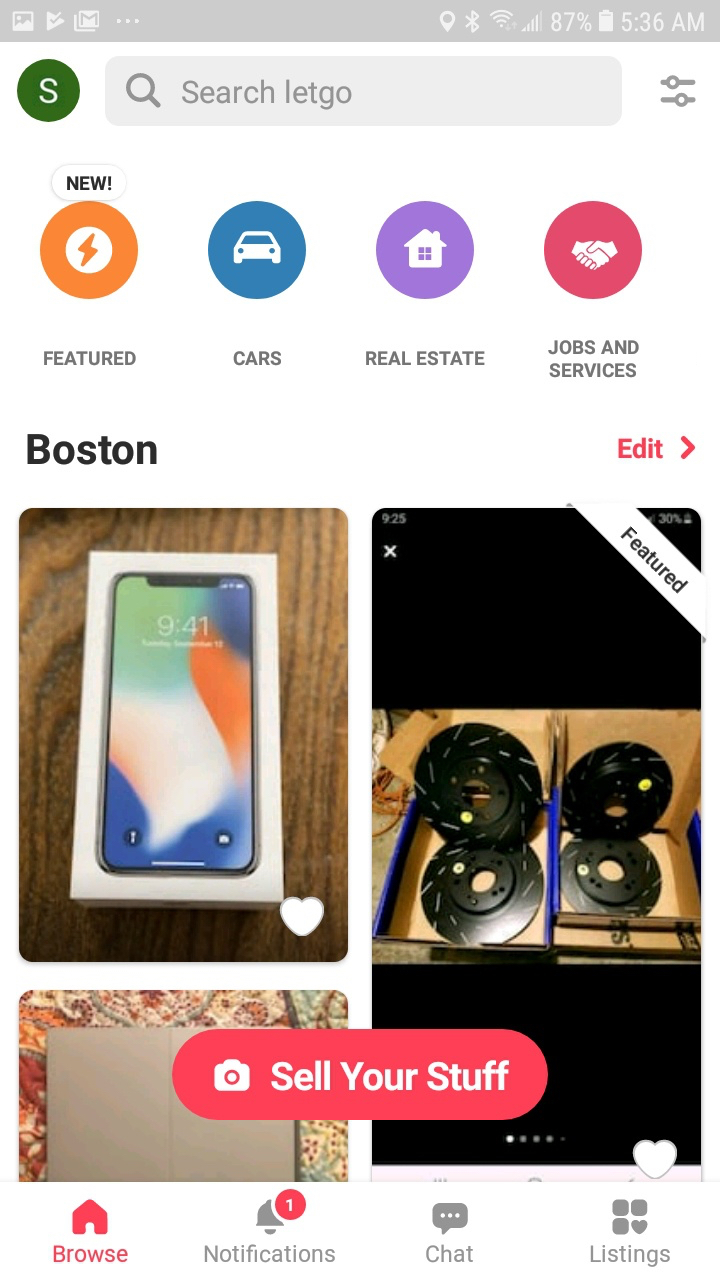EditText: (106, 56, 623, 127)
Icon: (376, 201, 475, 300), (256, 1188, 307, 1235), (279, 897, 325, 937), (632, 1139, 677, 1179), (72, 1198, 109, 1235), (611, 1199, 648, 1236), (126, 74, 162, 110), (432, 1202, 469, 1235), (660, 76, 697, 108), (680, 436, 696, 460)
Image: (372, 508, 702, 1183), (19, 508, 349, 963), (20, 989, 349, 1182), (40, 201, 139, 300), (208, 201, 307, 300), (544, 201, 643, 300), (18, 59, 81, 123)
Text: (182, 79, 353, 111), (27, 434, 158, 466), (548, 340, 640, 379), (204, 1243, 336, 1263), (590, 1244, 671, 1268), (366, 351, 486, 367), (53, 1244, 129, 1263), (44, 351, 137, 366), (618, 437, 664, 460), (425, 1244, 474, 1263), (233, 351, 282, 367)
TextButton: (172, 1029, 549, 1121), (53, 165, 128, 202)
UpperTaskBar: (1, 1, 720, 43)
